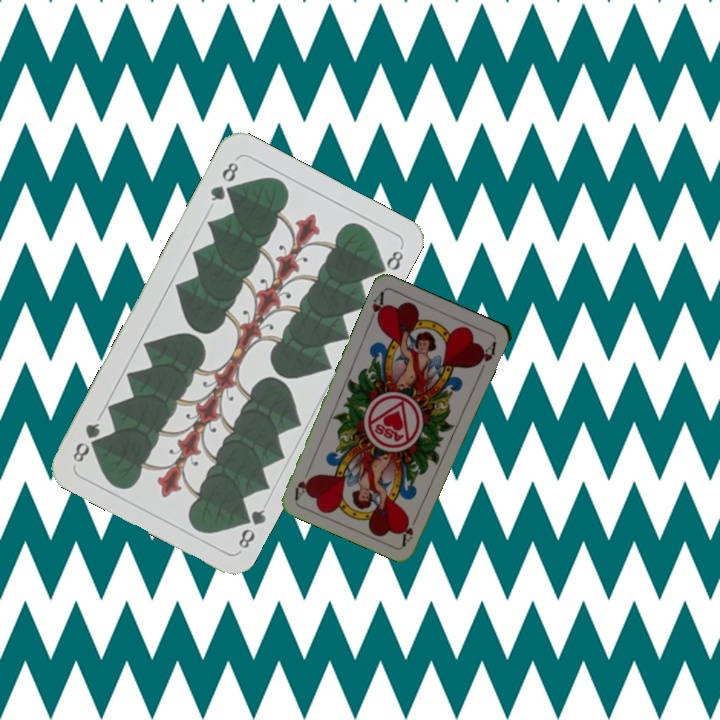G8: (206, 155, 241, 204), (234, 505, 269, 551)
HA: (365, 287, 388, 327), (398, 509, 422, 547)
